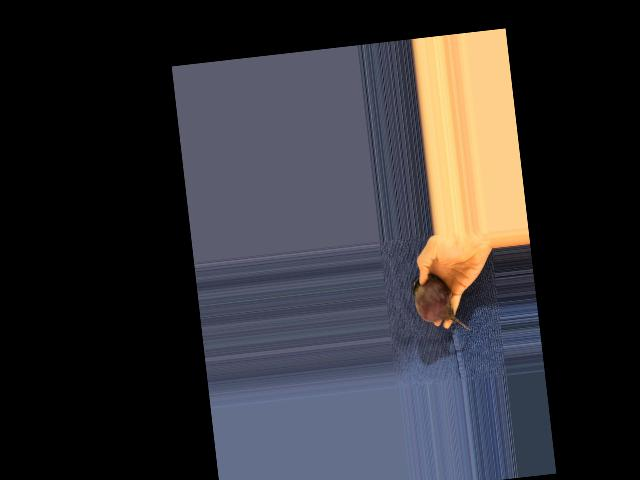beet: (409, 270, 471, 336)
